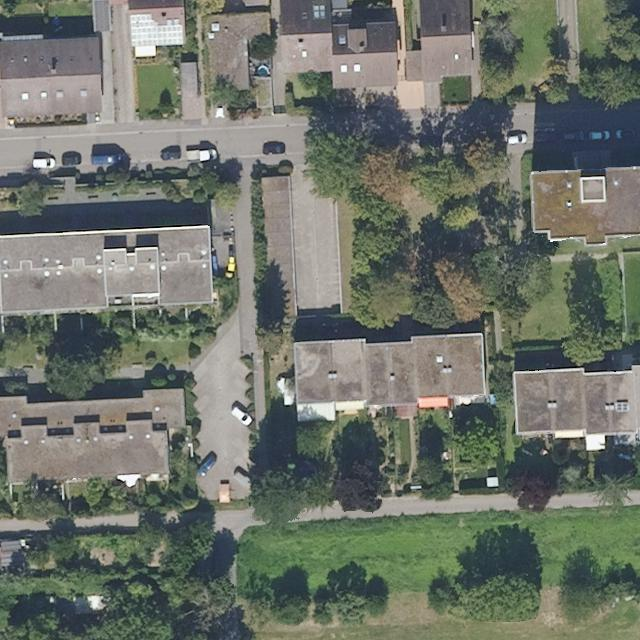PV: (128, 12, 186, 48), (615, 400, 631, 415)
